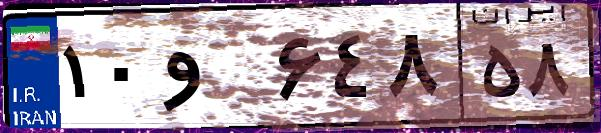0: (110, 28, 158, 98)
1: (57, 26, 110, 100)
4: (330, 28, 385, 110)
5: (475, 38, 525, 113)
6: (270, 28, 330, 110)
8: (385, 28, 445, 110), (525, 38, 570, 115)
و: (158, 20, 270, 120)
